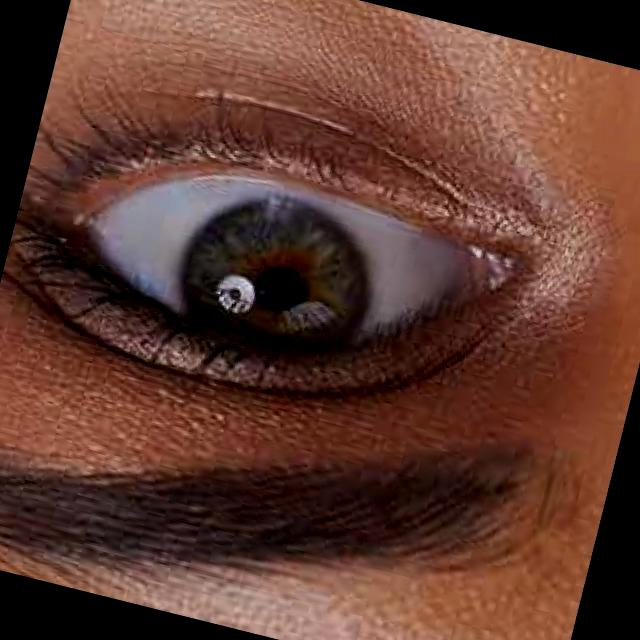Normal: (1, 110, 586, 420)
